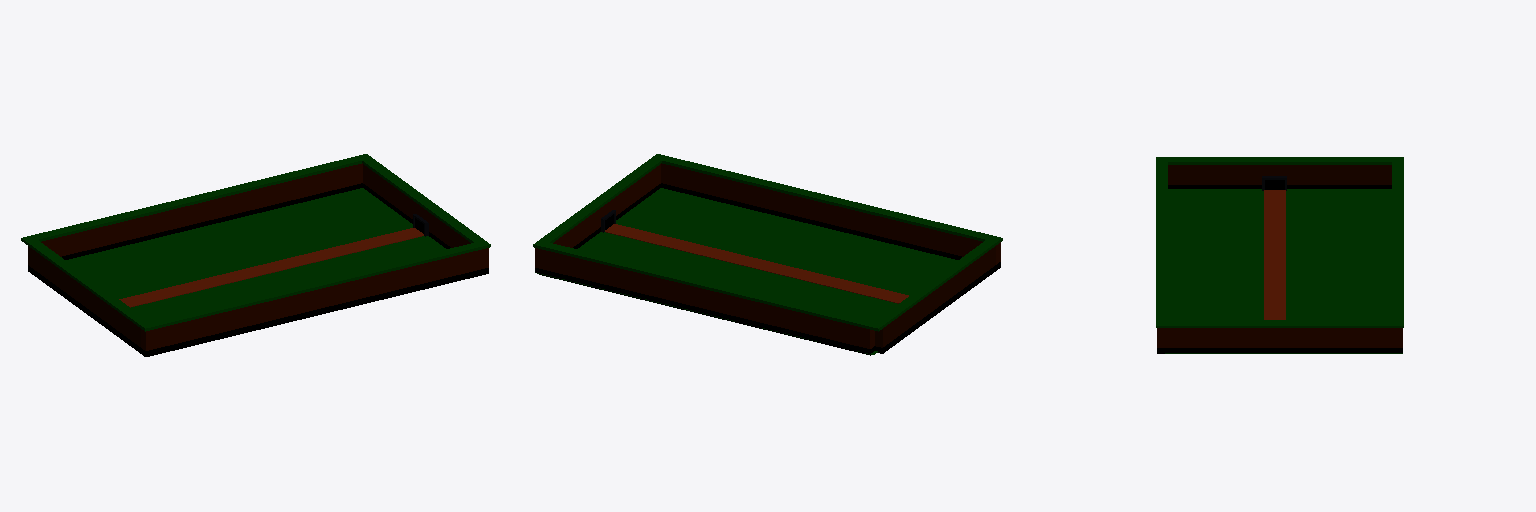
File: map.obj
The picture shows the model from 3 angles: view 1: azimuth 30°, elevation 25°; view 2: azimuth 150°, elevation 25°; view 3: azimuth 270°, elevation 25°; orthographic projection.
Parts seen in each view (by area): view 1: Baseplate1, Part12, Part17, Walkingon1, Part11, Part16, Part14, Part10, Part20, Part15, Part21, Part18 (+1 smaller); view 2: Baseplate1, Part17, Part12, Walkingon1, Part11, Part16, Part14, Part18, Part20, Part15, Part21, Part10 (+1 smaller); view 3: Baseplate1, Part20, Part14, Walkingon1, Part11, Part16, Part21, Part15, Part19, Part13.
Boxes of the visible parts, <box> form: Baseplate1: <box>66,188,445,321</box>; Part12: <box>141,248,486,350</box>; Part17: <box>41,163,362,256</box>; Walkingon1: <box>119,228,423,307</box>; Part11: <box>144,240,490,329</box>; Part16: <box>31,155,364,241</box>; Part14: <box>28,246,140,346</box>; Part10: <box>154,268,488,354</box>; Part20: <box>363,164,488,268</box>; Part15: <box>21,236,155,331</box>; Part21: <box>360,154,483,242</box>; Part18: <box>62,183,362,259</box>; Baseplate1: <box>535,188,957,354</box>; Part17: <box>535,248,874,348</box>; Part12: <box>661,163,1000,264</box>; Walkingon1: <box>605,224,908,303</box>; Part11: <box>652,154,996,241</box>; Part16: <box>540,242,874,328</box>; Part14: <box>875,246,995,347</box>; Part18: <box>539,270,874,355</box>; Part20: <box>553,164,660,247</box>; Part15: <box>868,237,1002,331</box>; Part21: <box>533,158,661,248</box>; Part10: <box>661,183,961,259</box>; Baseplate1: <box>1165,189,1402,353</box>; Part20: <box>1157,328,1393,347</box>; Part14: <box>1168,165,1391,184</box>; Walkingon1: <box>1264,190,1285,319</box>; Part11: <box>1156,159,1167,327</box>; Part16: <box>1392,161,1403,321</box>; Part21: <box>1166,320,1403,327</box>; Part15: <box>1156,157,1403,164</box>; Part19: <box>1162,348,1402,352</box>; Part13: <box>1168,185,1391,188</box>.
Bounding box in the file's own units: 445 × 36.37 × 277.